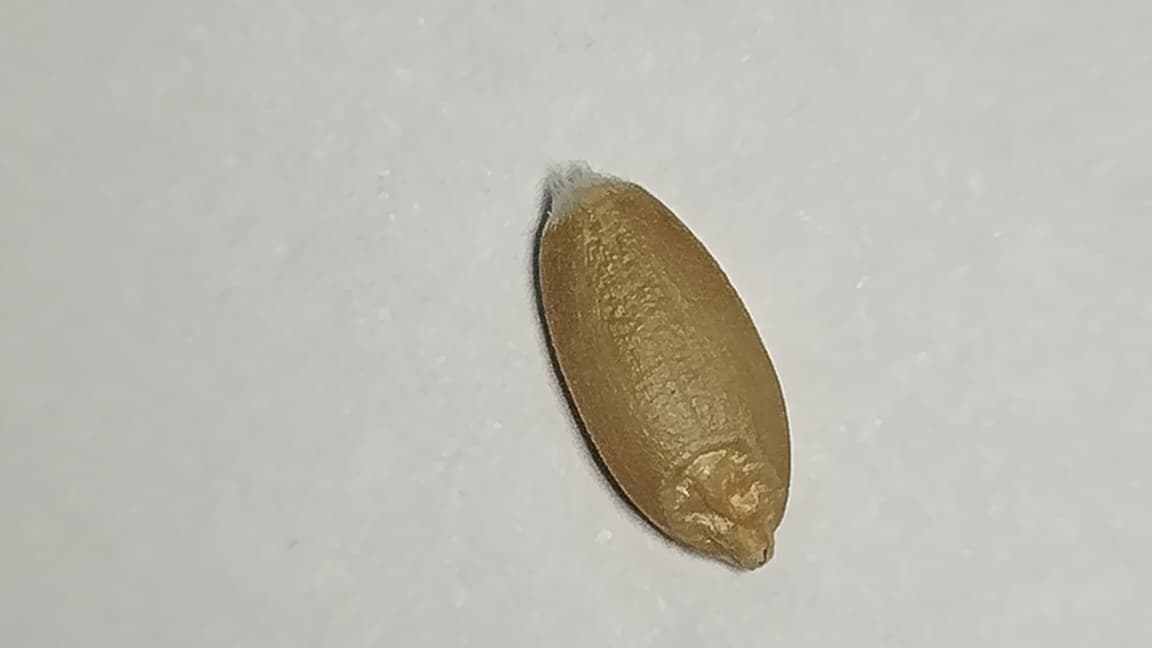healthy: (538, 163, 789, 569)
